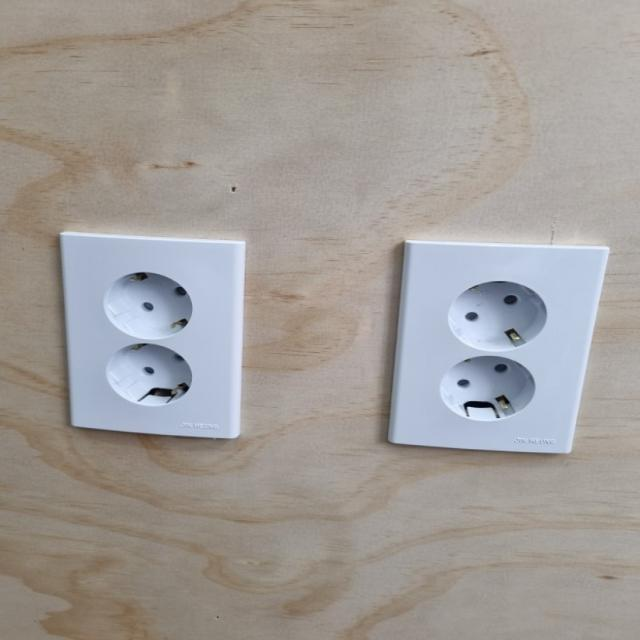typeb: (341, 209, 622, 482), (35, 214, 254, 458)
